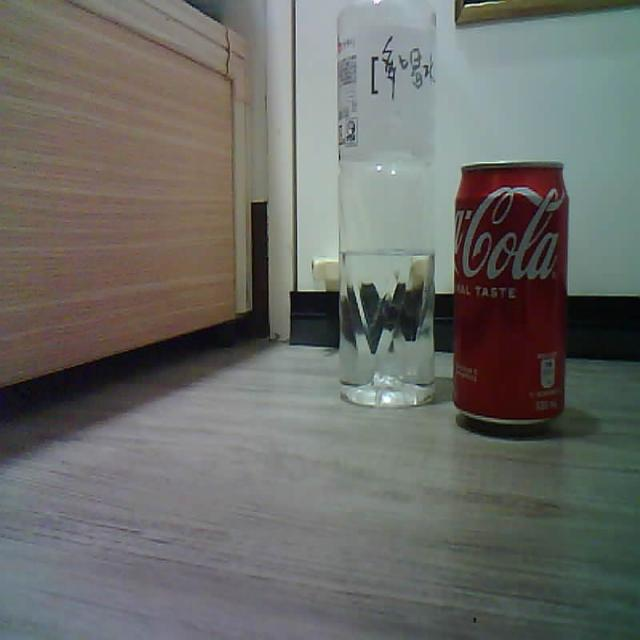bottle: (337, 0, 441, 406)
can: (454, 161, 568, 433)
